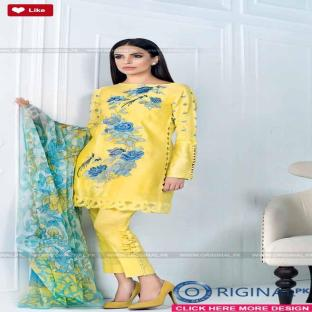Human: (74, 38, 197, 310)
